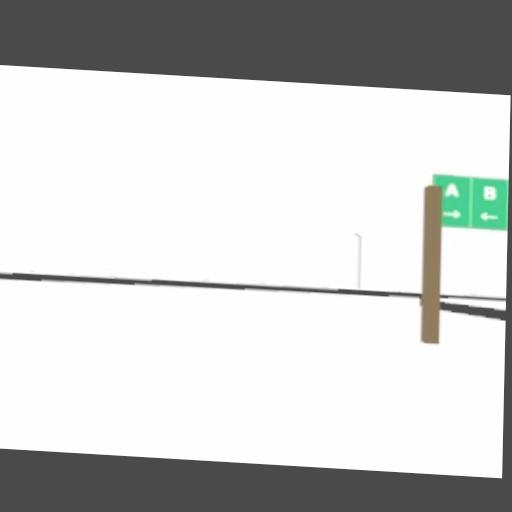A: (445, 181, 460, 197)
B: (483, 185, 498, 200)
Left: (478, 210, 500, 221)
Right: (442, 208, 461, 218)
